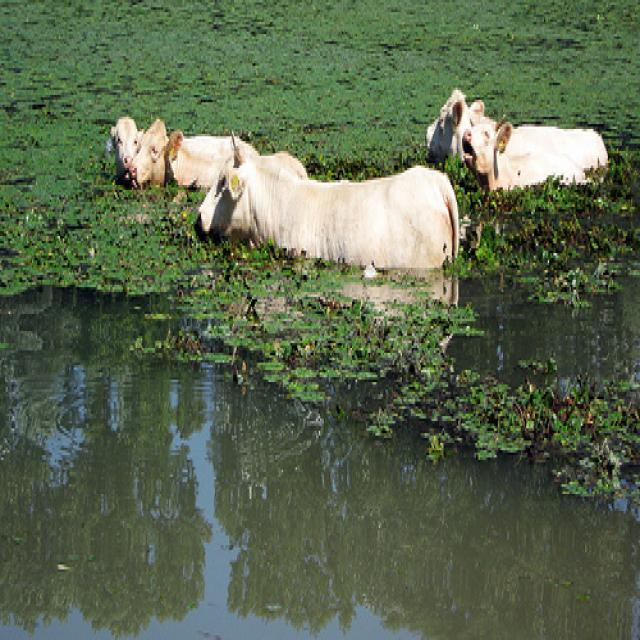cow: (188, 124, 462, 263), (128, 117, 303, 187), (460, 100, 607, 182), (424, 88, 484, 158), (104, 109, 146, 185)
